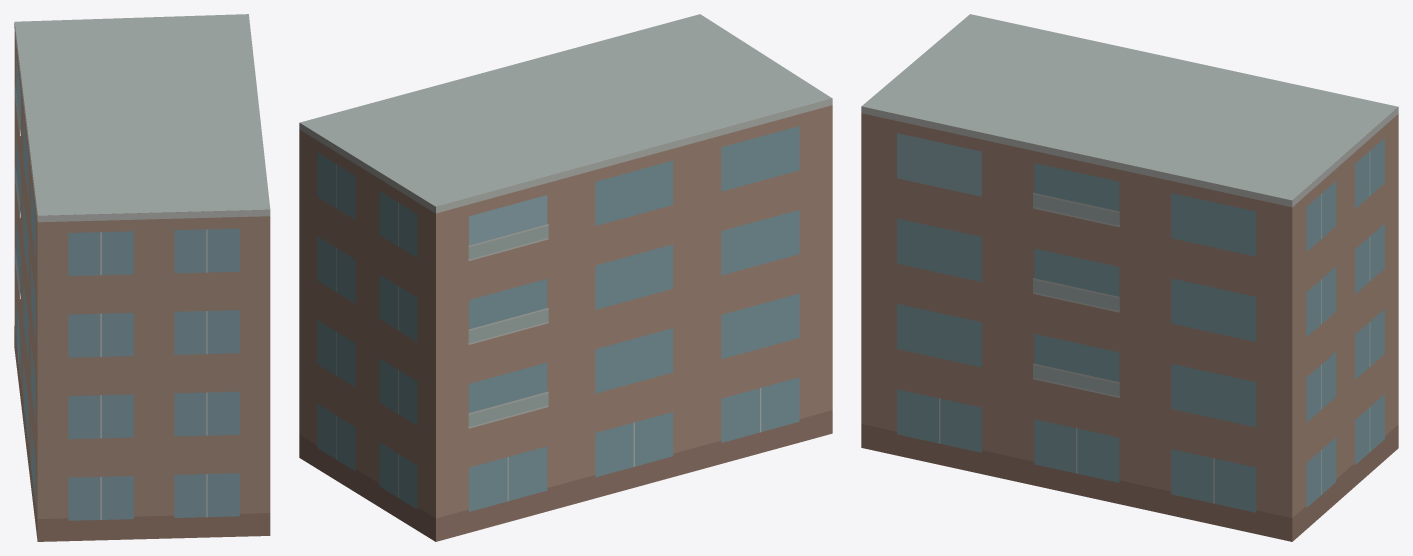
File: survey-upis-32729578.glb
3 renders of one model, left to right at view 1: azimuth 30°, elevation 25°; view 2: azimuth 150°, elevation 25°; view 3: azimuth 270°, elevation 25°, orthographic. The views are drawn at different scales.
Parts seen in each view (by area): view 1: survey-upis-32729578.tmp; view 2: survey-upis-32729578.tmp; view 3: survey-upis-32729578.tmp.
Part boxes in pixels (x1,y1,x2,y2): survey-upis-32729578.tmp: (14, 14, 270, 541); survey-upis-32729578.tmp: (299, 14, 832, 541); survey-upis-32729578.tmp: (861, 14, 1398, 541).
Size of the model in its own units: 14.18 by 12.1 by 17.26.
